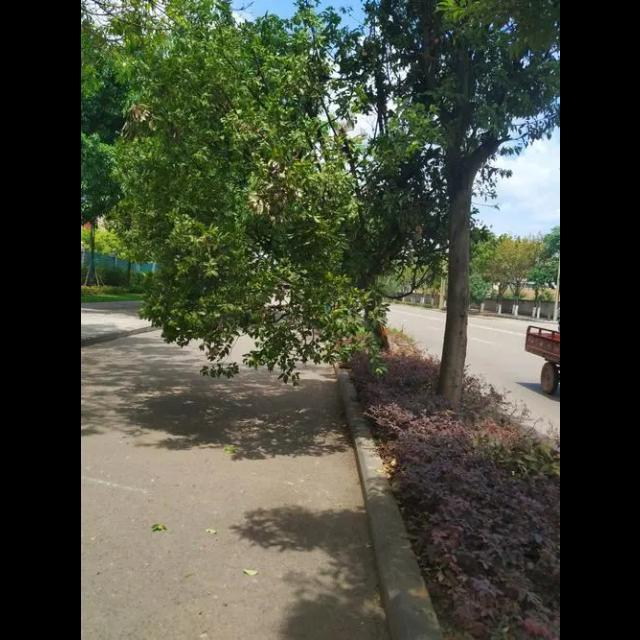fallen_tree: (121, 8, 423, 374)
